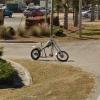Bicycle: (27, 35, 70, 68)
